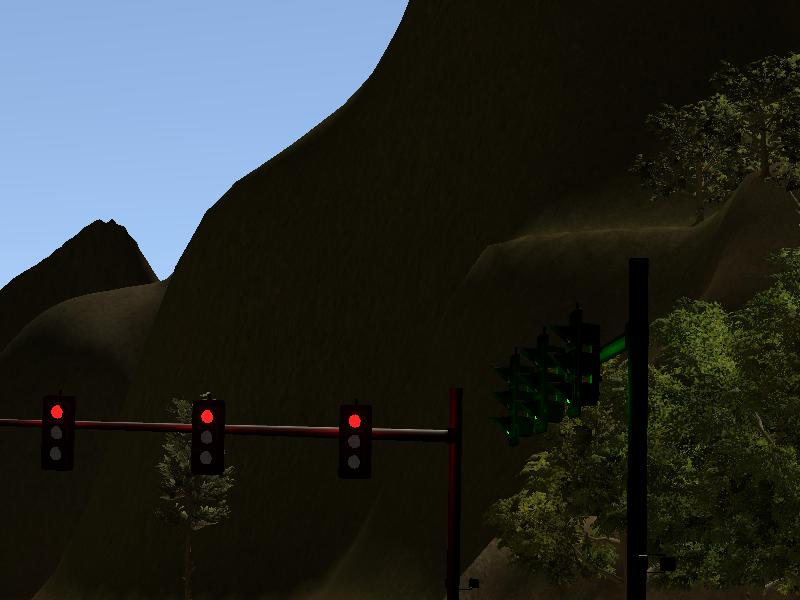Red: (338, 403, 372, 478), (192, 400, 224, 473), (40, 398, 73, 468)
